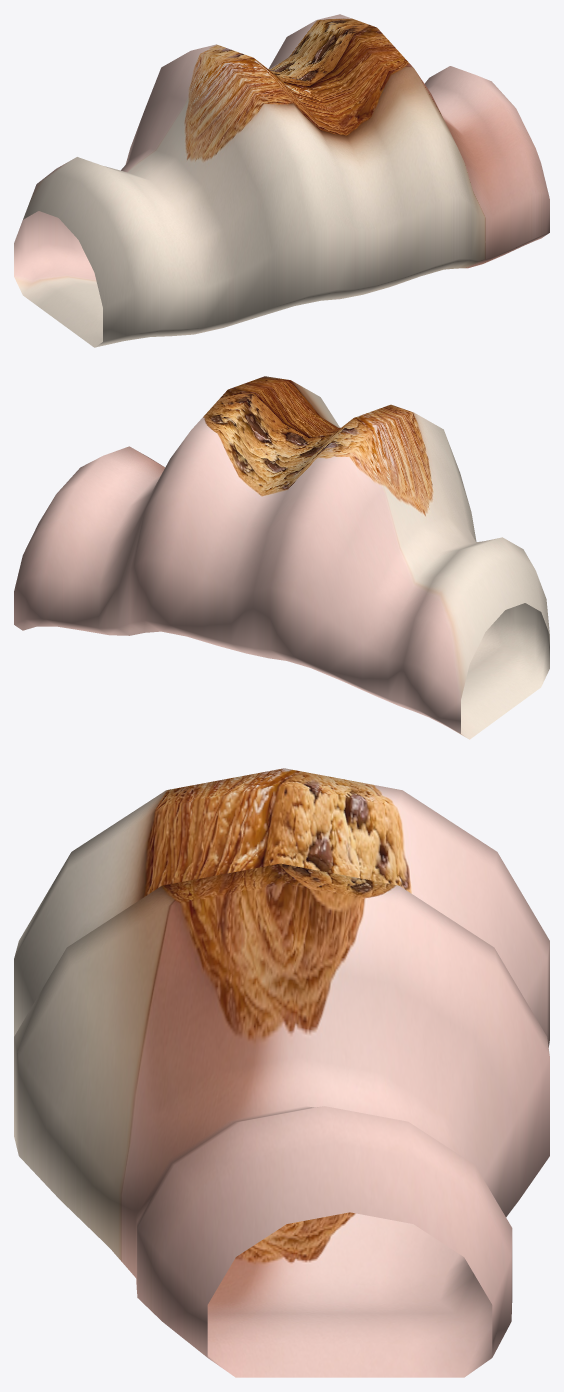
Rendered from prop_croissant_cookie.glb.
3 renders of one model, top to bottom at view 1: azimuth 30°, elevation 25°; view 2: azimuth 150°, elevation 25°; view 3: azimuth 270°, elevation 25°, orthographic. The views are drawn at different scales.
Visible parts, largest first — view 1: prop_croissant_cookie; view 2: prop_croissant_cookie; view 3: prop_croissant_cookie.
Boxes of the visible parts, box(x1,y1,x2,y2) form: prop_croissant_cookie: box(14, 14, 549, 347); prop_croissant_cookie: box(14, 376, 549, 739); prop_croissant_cookie: box(14, 768, 549, 1377).
Bounding box in the file's own units: 0.1298 × 0.0659 × 0.0844.
Materials: 1 (1 with a texture image).
